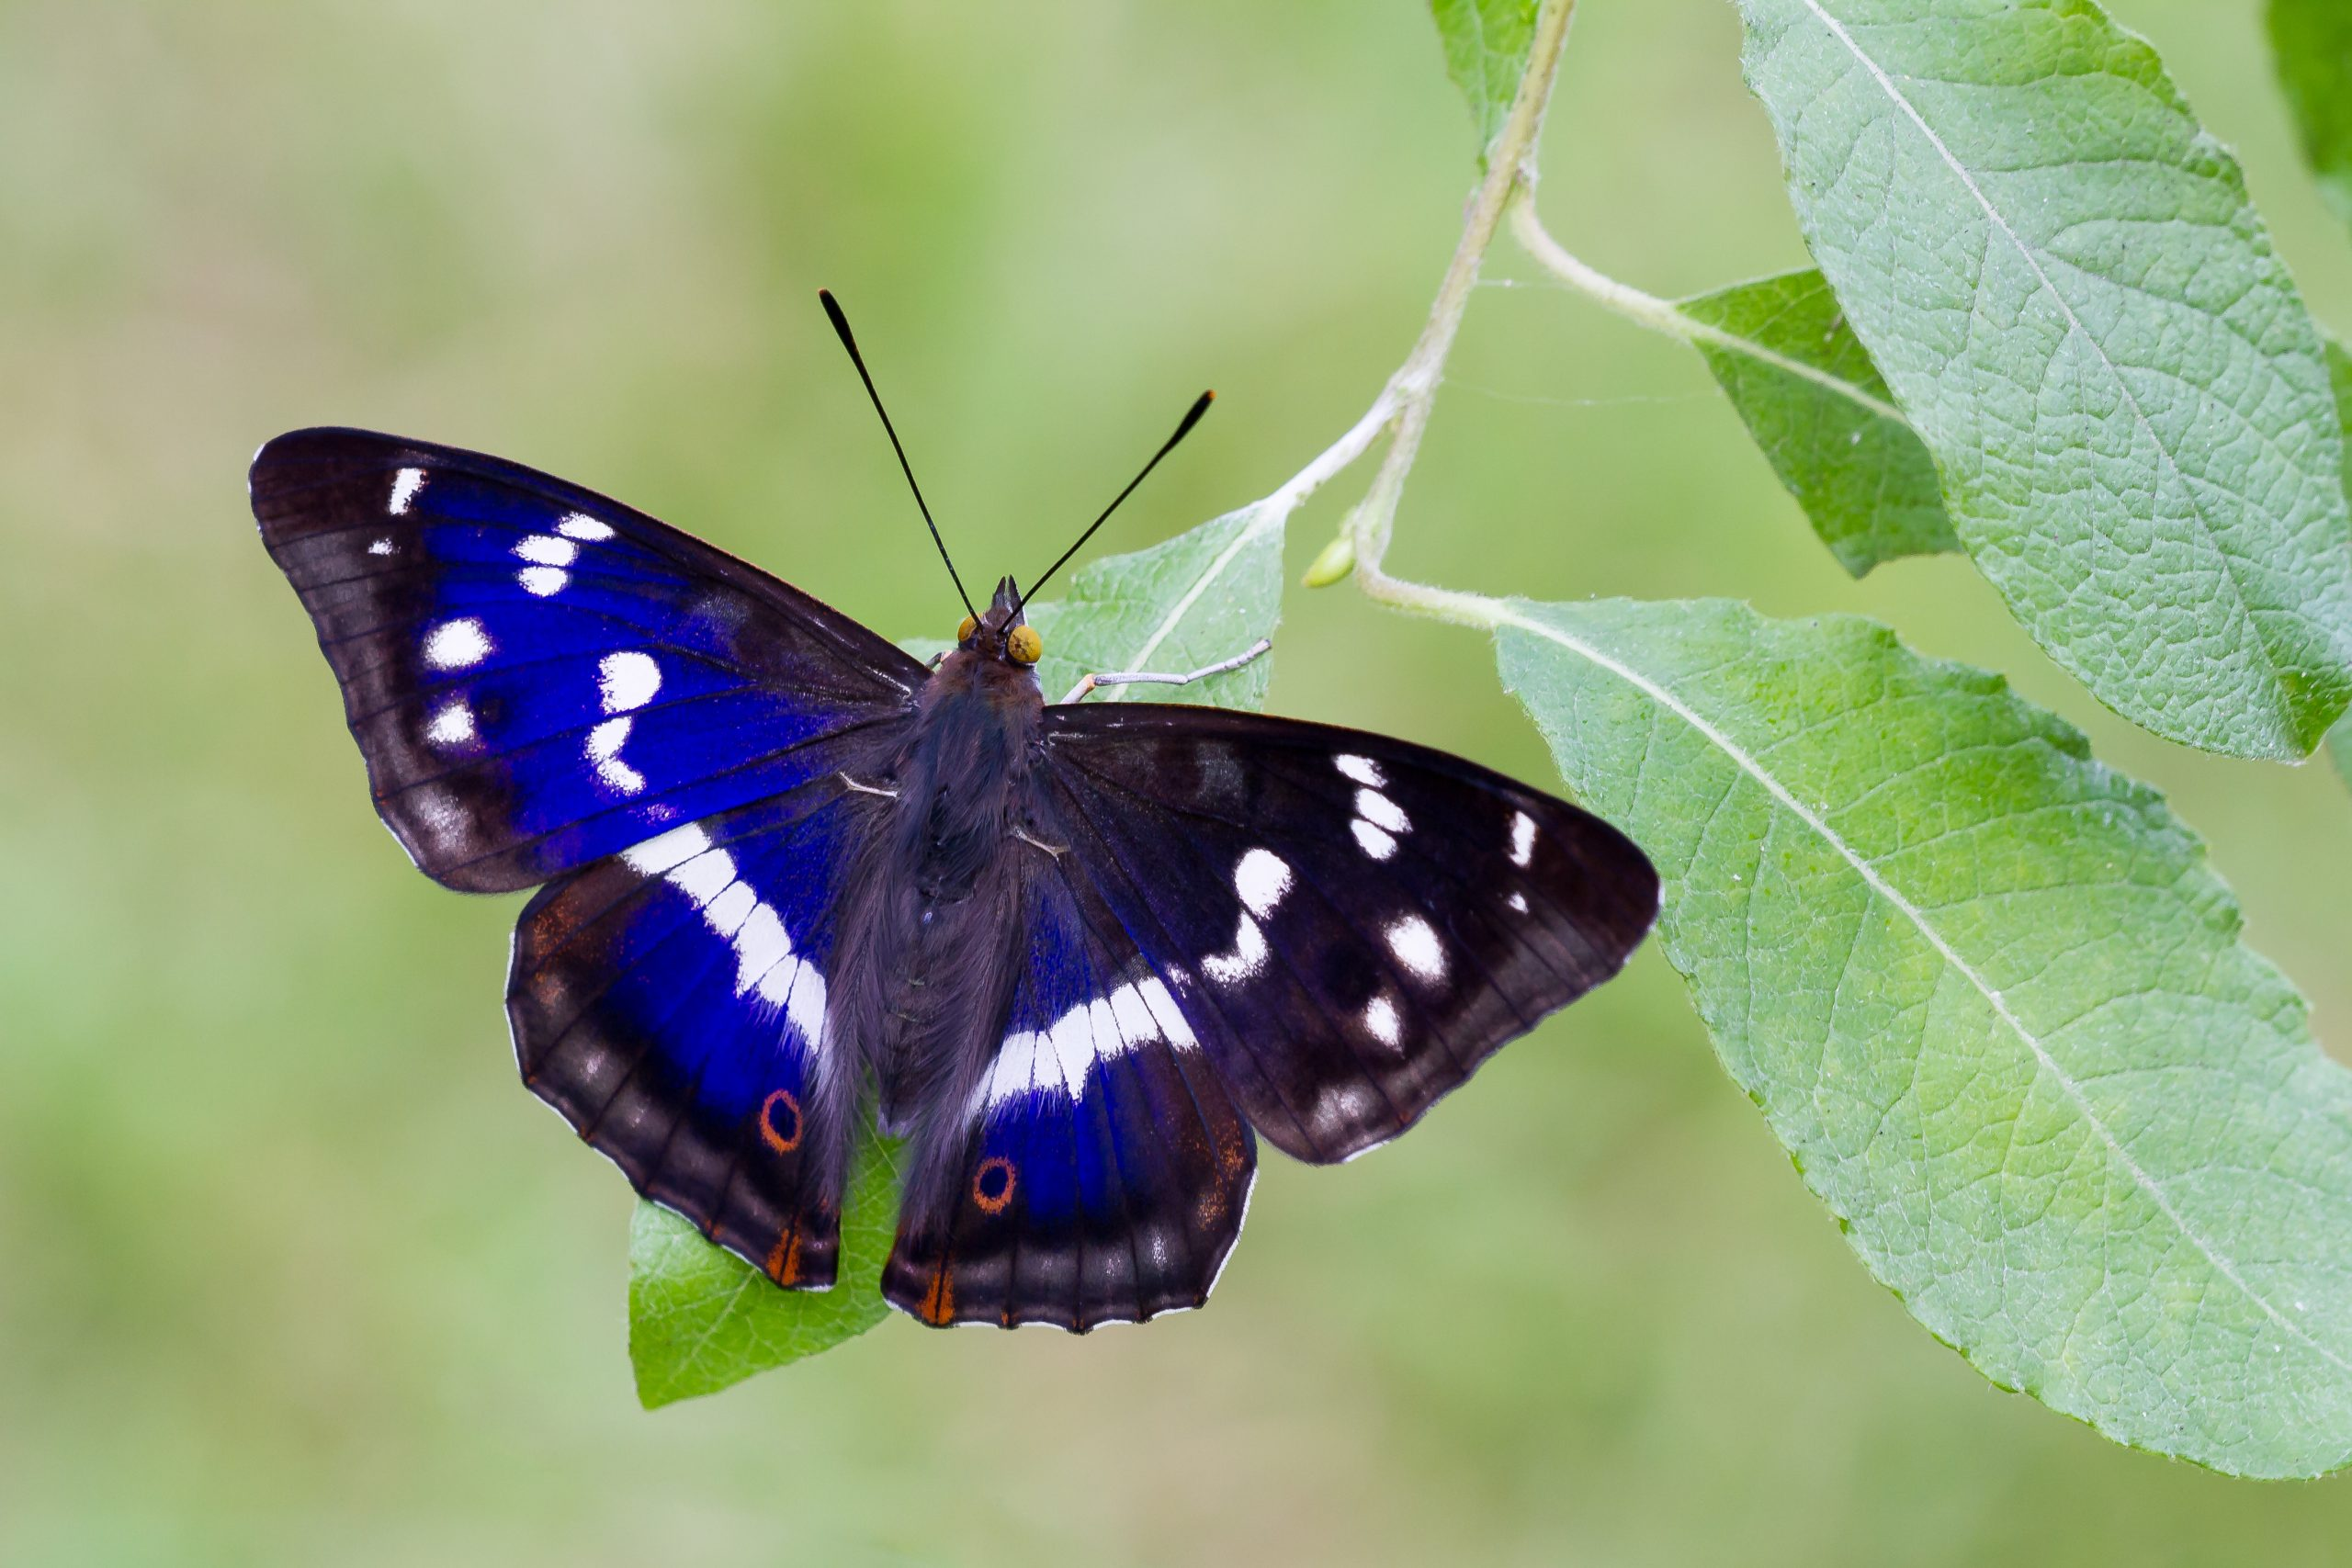Butterfly: (248, 283, 1664, 1349)
